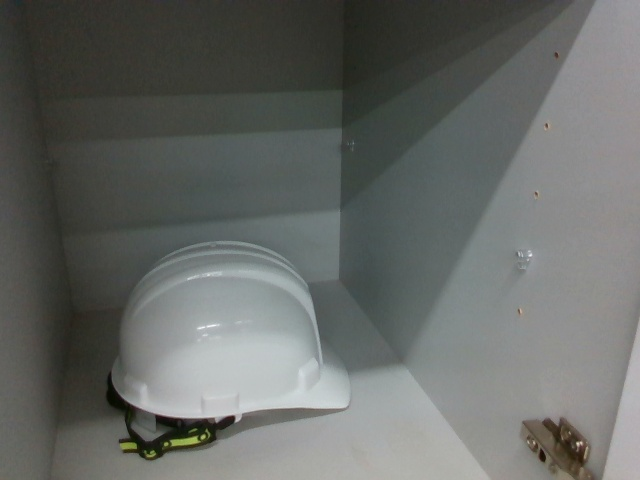helmet: (105, 238, 356, 456)
